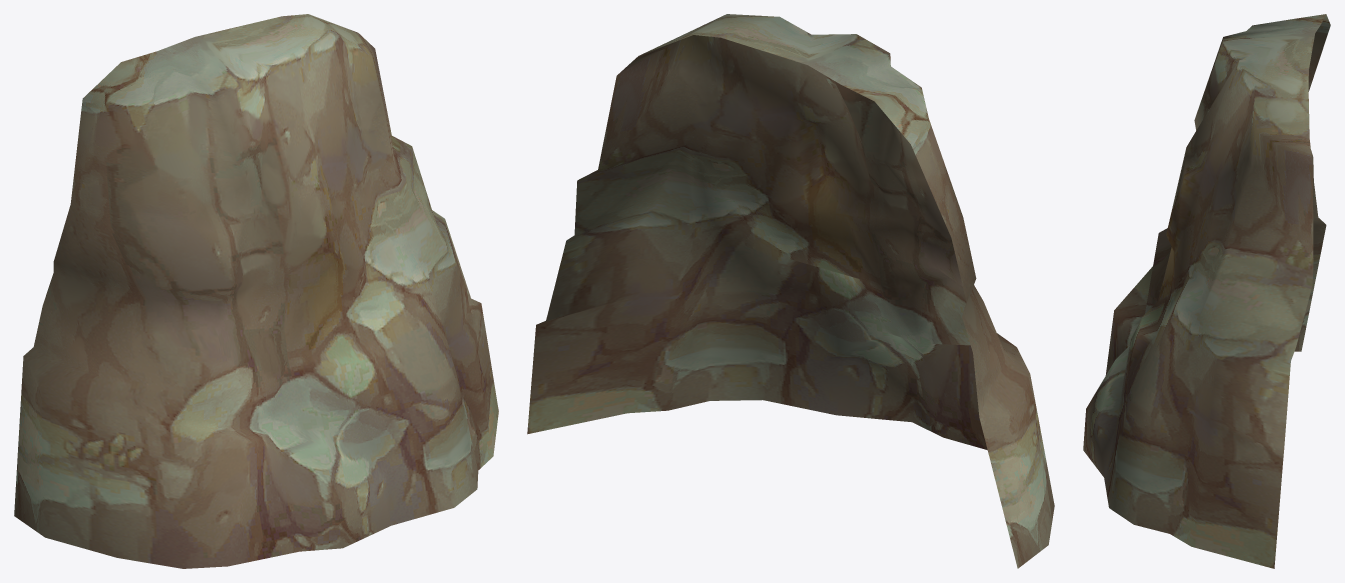
File: Map_08_stone05.FBX
The picture shows the model from 3 angles, left to right: view 1: azimuth 30°, elevation 25°; view 2: azimuth 150°, elevation 25°; view 3: azimuth 270°, elevation 25°; orthographic projection. The views are drawn at different scales.
Visible parts, largest first — view 1: Map_08_stone05; view 2: Map_08_stone05; view 3: Map_08_stone05.
Part boxes in pixels (x1=…): Map_08_stone05: x1=14, y1=14, x2=498, y2=568; Map_08_stone05: x1=527, y1=14, x2=1054, y2=568; Map_08_stone05: x1=1083, y1=14, x2=1330, y2=568.
Bounding box in the file's own units: 628 × 302 × 550.
